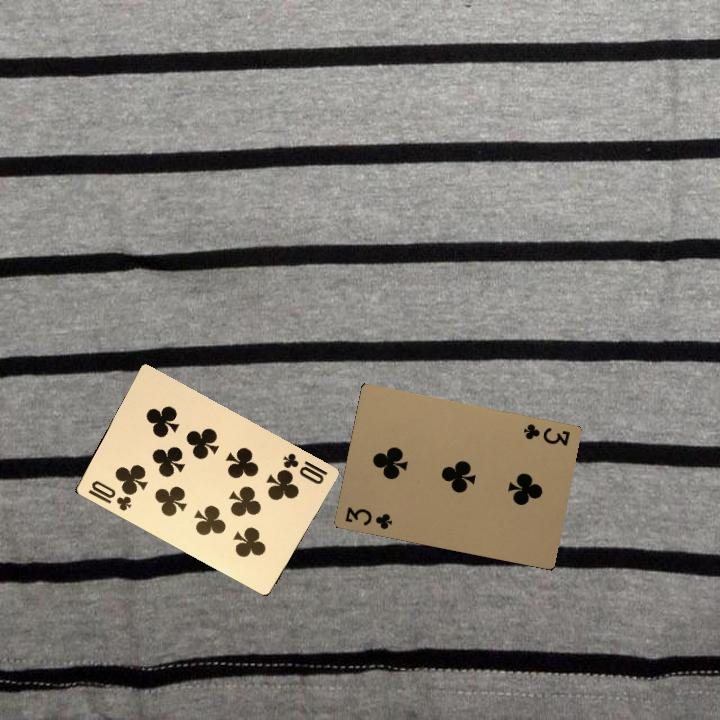10c: (279, 449, 330, 487), (84, 476, 135, 513)
3c: (341, 503, 395, 532), (519, 420, 572, 449)
